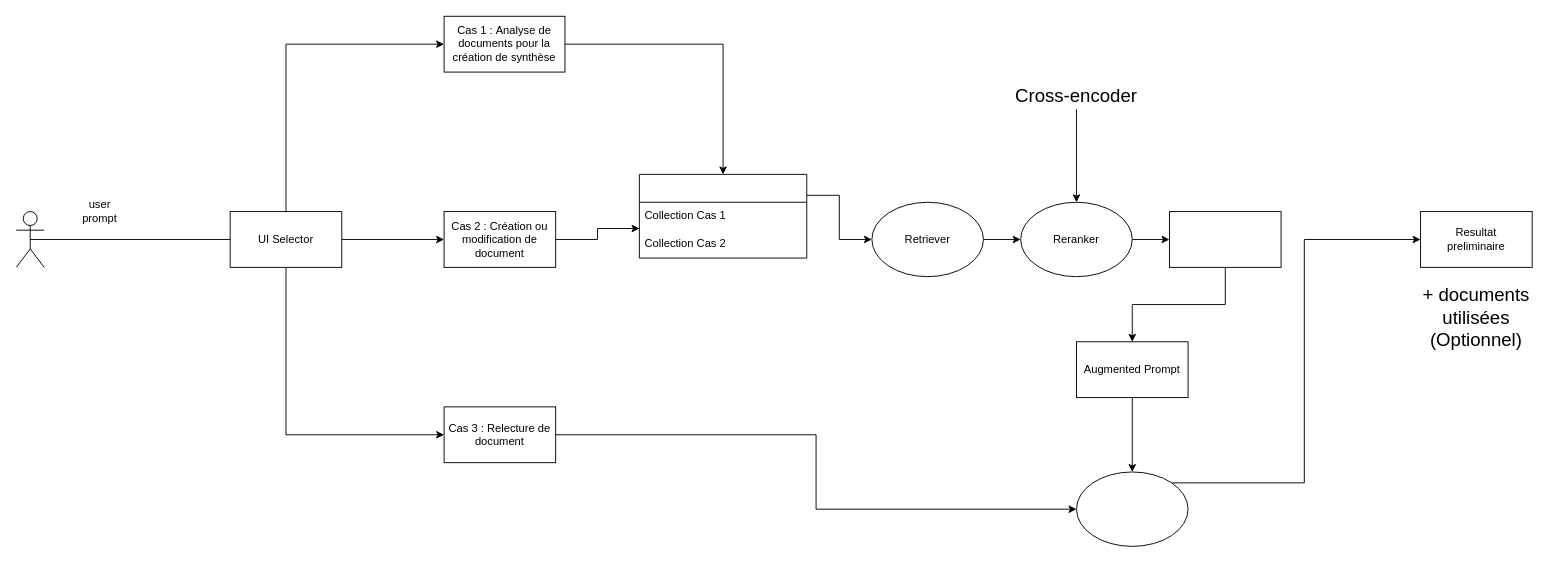
Image size: 1562x563. Some labels were removed from this diagram. Each missing label, with the box of its shape:
Base de donnée vectorielle ChromaDB: (638, 173, 807, 258)
documents pertinents: (1169, 211, 1281, 267)
LLM: (1076, 471, 1188, 546)
user: (15, 211, 44, 267)
